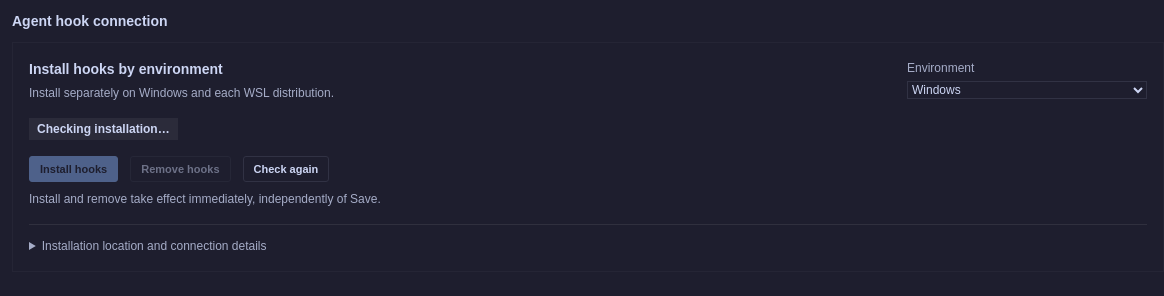
AgentHooksSection › 이전 환경에서 늦게 도착한 미설치 응답을 폐기한다
Select "WSL · Ubuntu" in the dropdown with test id "agent-hooks-environment" showing "Environment" at [1027, 90], box [907,81,1147,99]
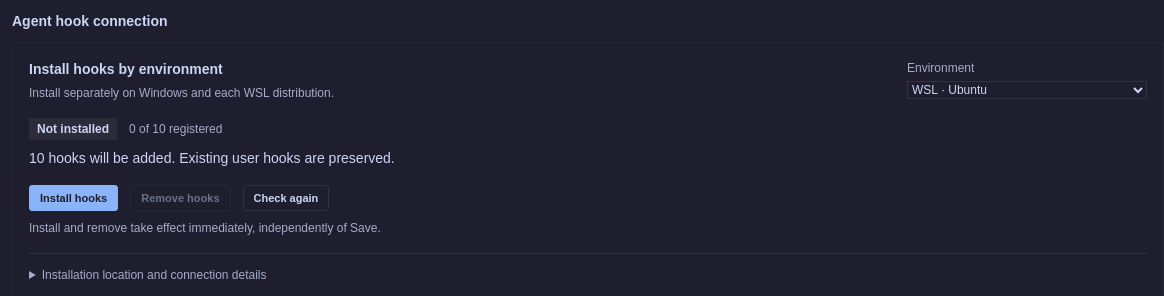
Now the button with test id "agent-hooks-install" is enabled, box [29,185,118,211]
